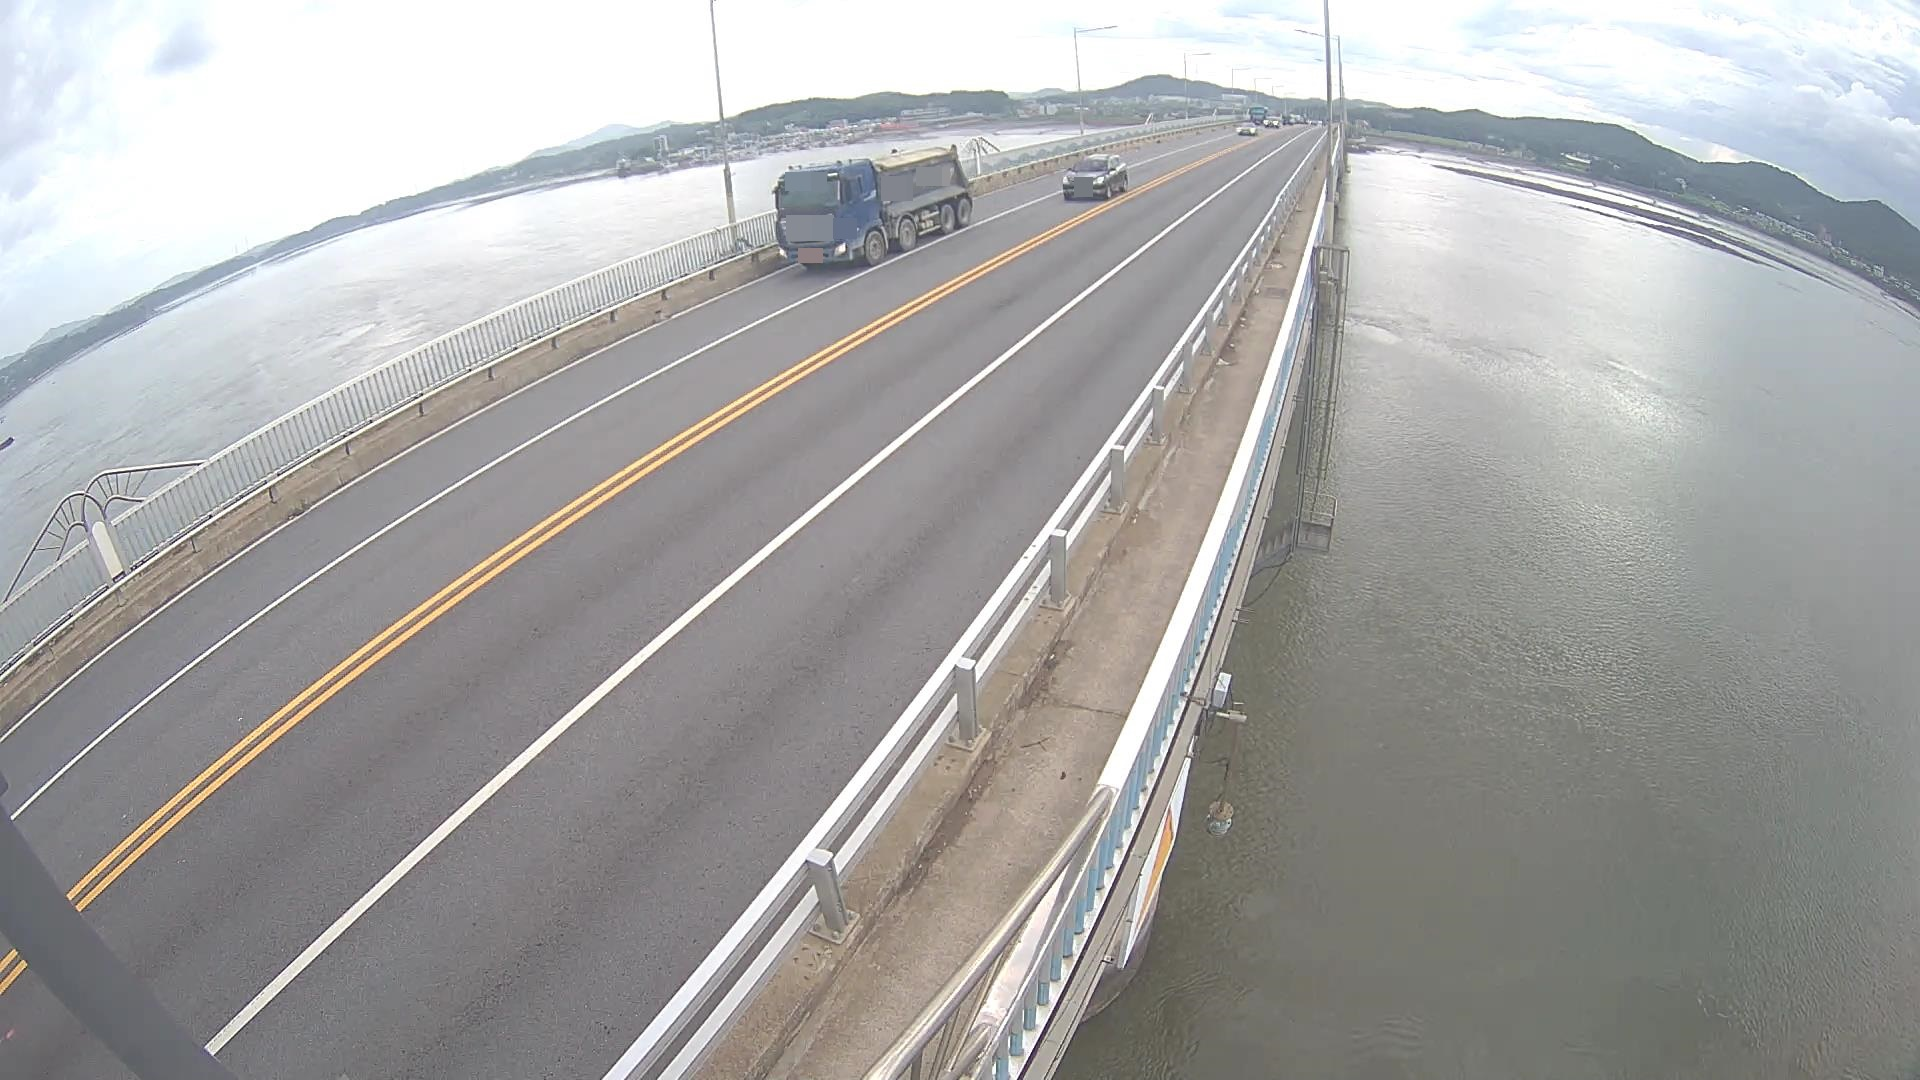정상차량: (771, 144, 973, 266)
